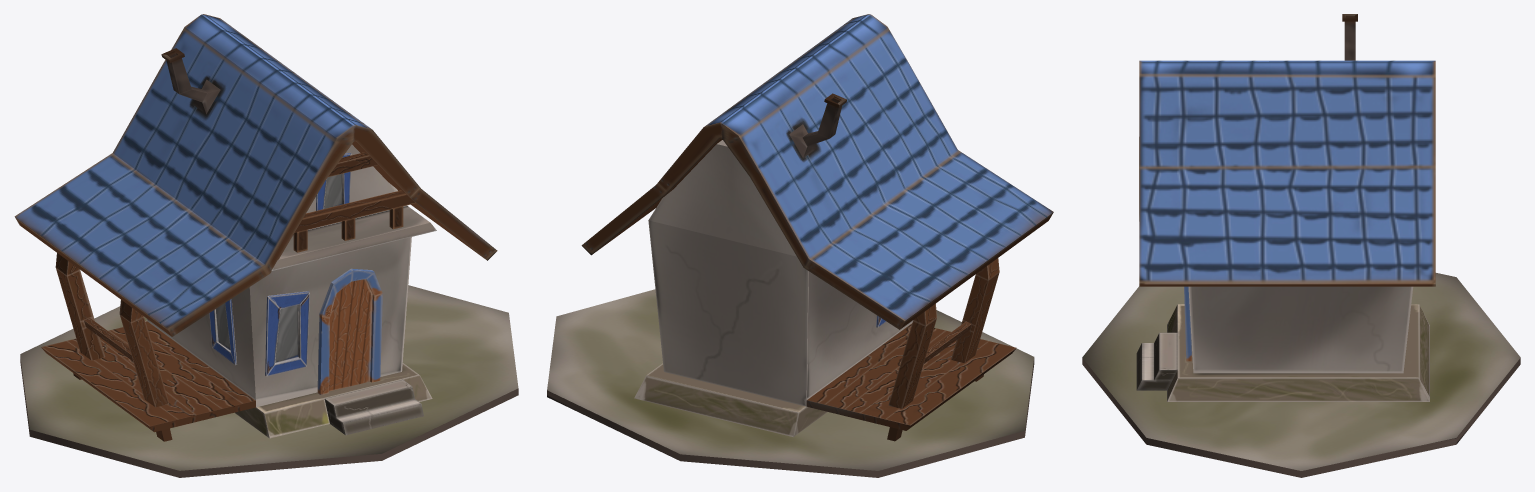
Rendered from baseline.glb.
3 views of the same model, side by side, from view 1: azimuth 30°, elevation 25°; view 2: azimuth 150°, elevation 25°; view 3: azimuth 270°, elevation 25° (orthographic). The views are drawn at different scales.
Parts seen in each view (by area): view 1: Object_3; view 2: Object_3; view 3: Object_3.
Part boxes in pixels (<box>): Object_3: <box>14,14,518,477</box>; Object_3: <box>547,14,1053,477</box>; Object_3: <box>1082,14,1520,477</box>.
Size of the model in its own units: 185 by 120 by 151.
1 material, 1 textured.
